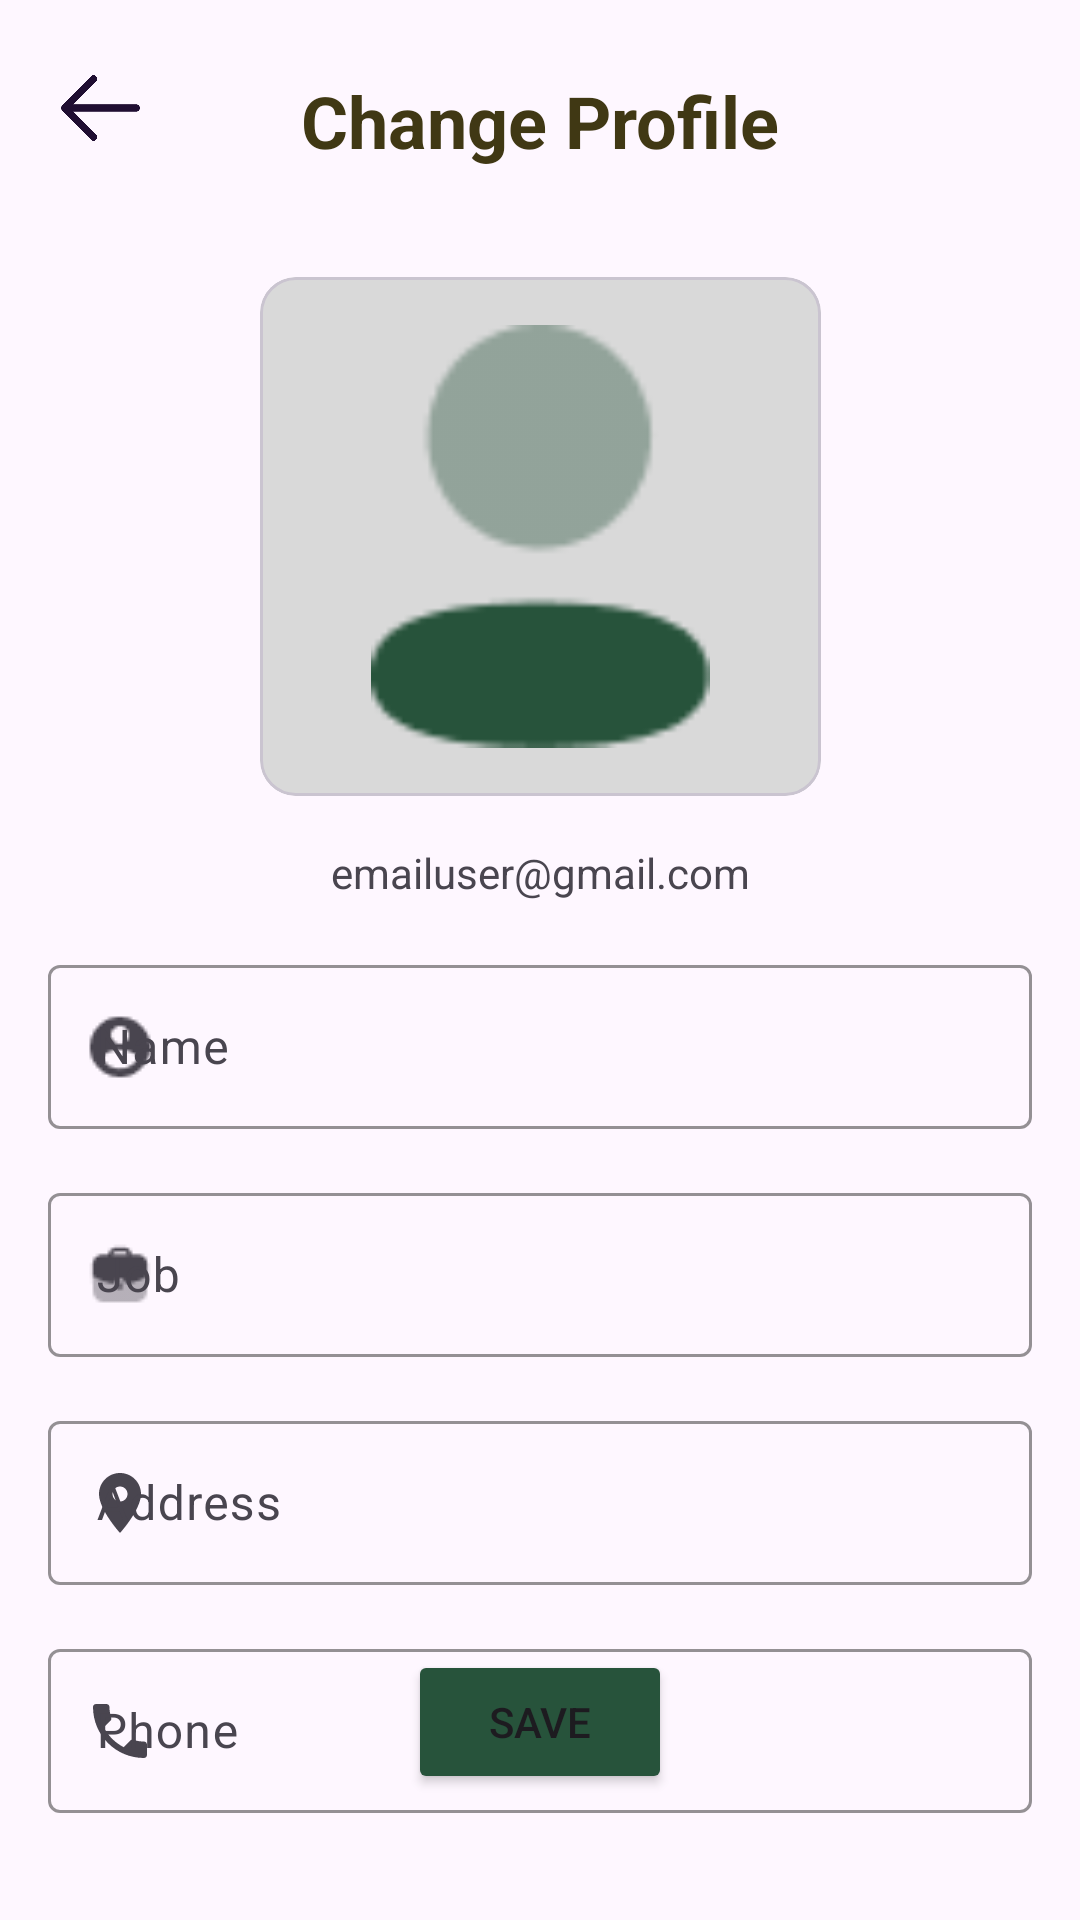

Named icons in this screenshot (1080 x 1920) and their bounding boxes, (x1, y1, x2, y2):
arrow left: (61, 75, 140, 141)
